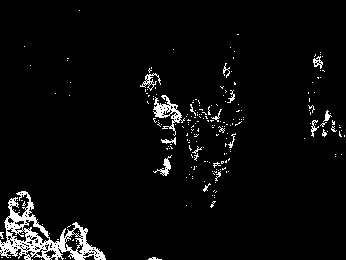person: (4, 189, 54, 258), (153, 95, 181, 176), (202, 103, 224, 201), (218, 87, 246, 154), (56, 224, 104, 260), (185, 98, 202, 174)
